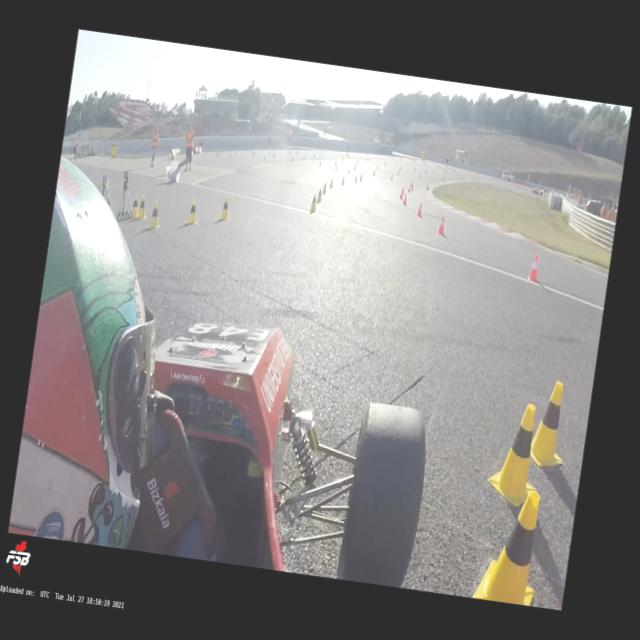orange_cone: (528, 254, 542, 283), (437, 216, 448, 236), (417, 202, 424, 218), (402, 192, 408, 205), (399, 189, 404, 200), (402, 186, 406, 195), (407, 185, 411, 192)
yellow_cone: (470, 484, 548, 606), (482, 398, 548, 512), (528, 378, 572, 471), (148, 201, 163, 231), (186, 198, 200, 225), (218, 196, 232, 222), (136, 194, 148, 220), (130, 194, 141, 217), (308, 193, 318, 214), (316, 188, 324, 203), (321, 182, 328, 195), (329, 179, 334, 189), (341, 177, 345, 186)
